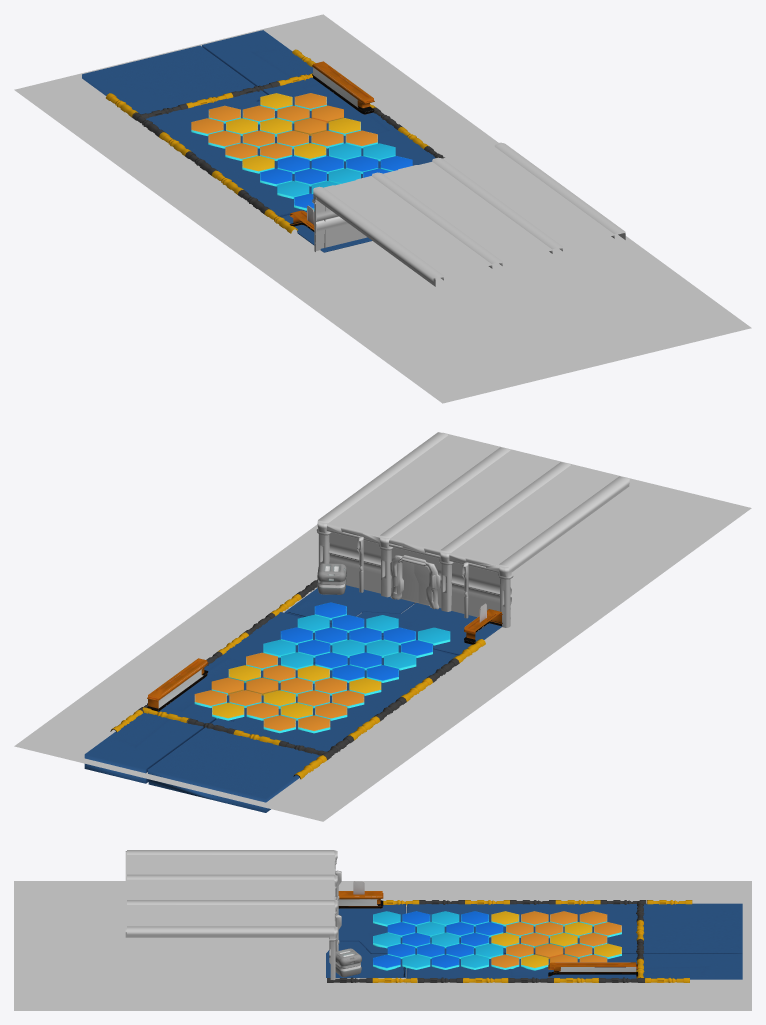
The model's file is Arena v1.fbx.
The picture shows the model from 3 angles, top to bottom: view 1: azimuth 30°, elevation 25°; view 2: azimuth 150°, elevation 25°; view 3: azimuth 270°, elevation 25°; orthographic projection. The views are drawn at different scales.
Visible parts, largest first — view 1: Plane.001, Plane.002; view 2: Plane.001, Plane.002; view 3: Plane.001, Plane.002.
Part boxes in pixels (<box>): Plane.001: <box>14,14,751,403</box>; Plane.002: <box>191,93,412,210</box>; Plane.001: <box>14,432,751,821</box>; Plane.002: <box>194,602,450,733</box>; Plane.001: <box>14,850,751,1010</box>; Plane.002: <box>373,911,621,970</box>.
Bounding box in the file's own units: 1932 × 441 × 4638.
